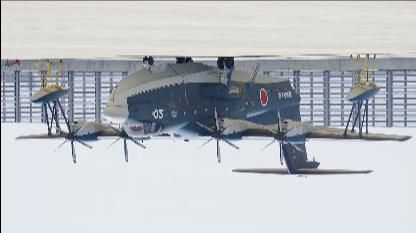Tu95: (13, 56, 412, 178)
